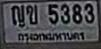3: (84, 3, 94, 23), (60, 3, 69, 23)
5: (48, 3, 58, 24)
8: (72, 3, 81, 23)
A02: (26, 4, 37, 24)
A13: (11, 4, 24, 24)
BKK: (16, 30, 87, 42)
